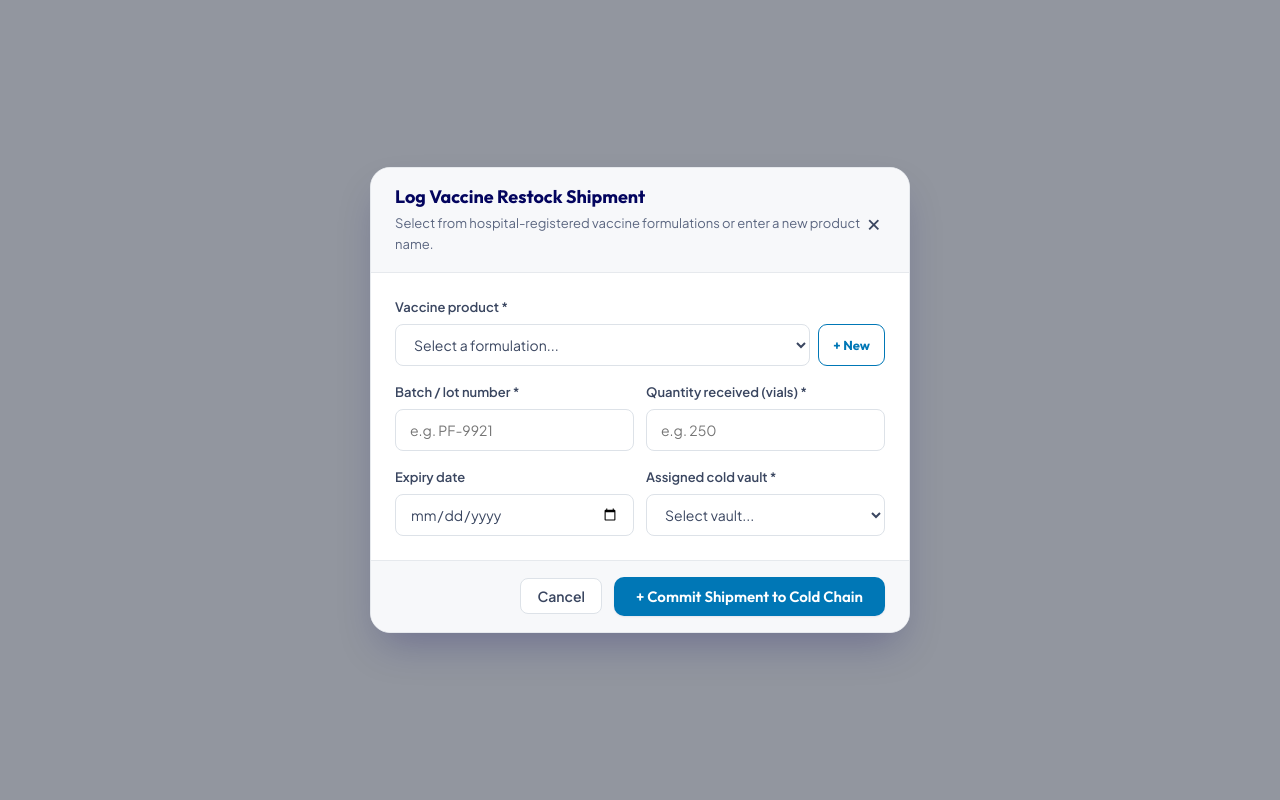
Scenario: RestockVaccineModal › shows an error when storage unit is empty on submit
Select "Pfizer" in the dropdown named "vaccineName" below "Vaccine product *". click: [603, 345]
box: [395,324,810,366]
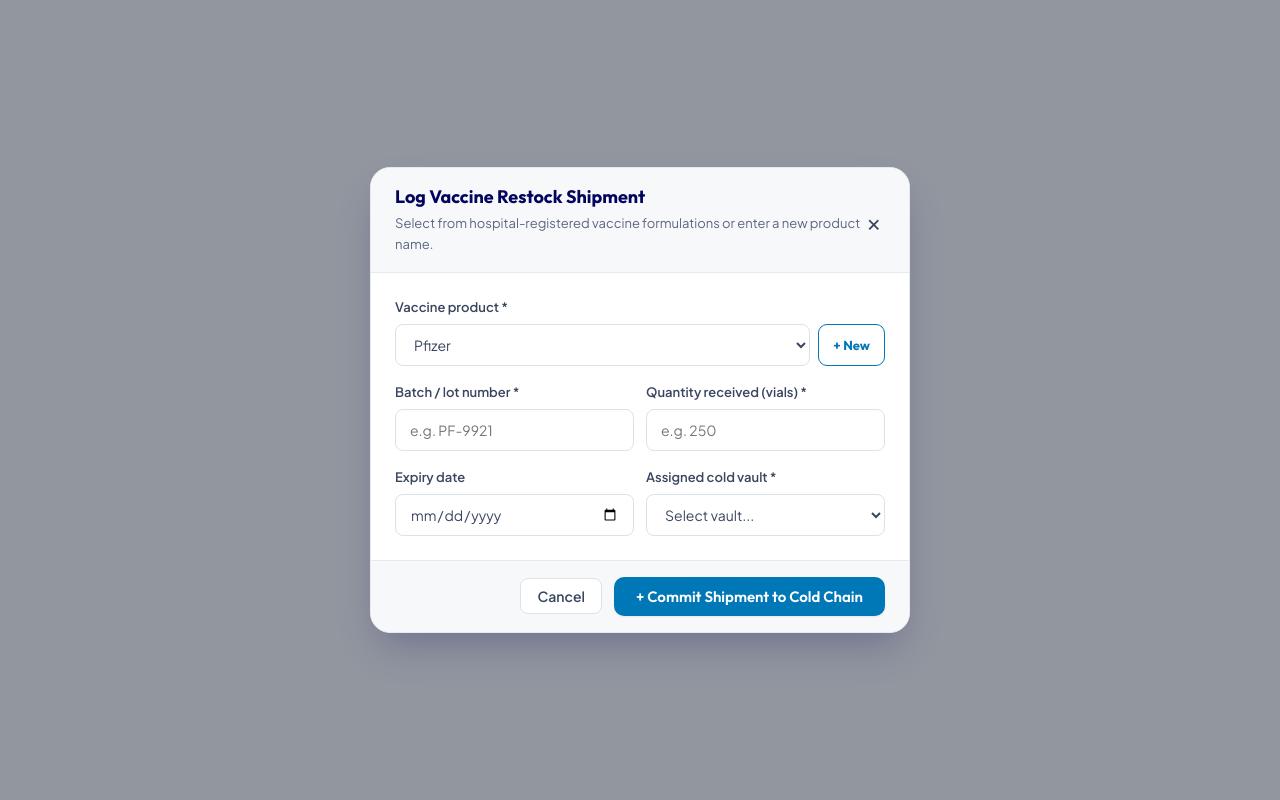
Type "LOT-001" into the field named "lotNumber". click: [514, 430]
box: [395,409,634,451]
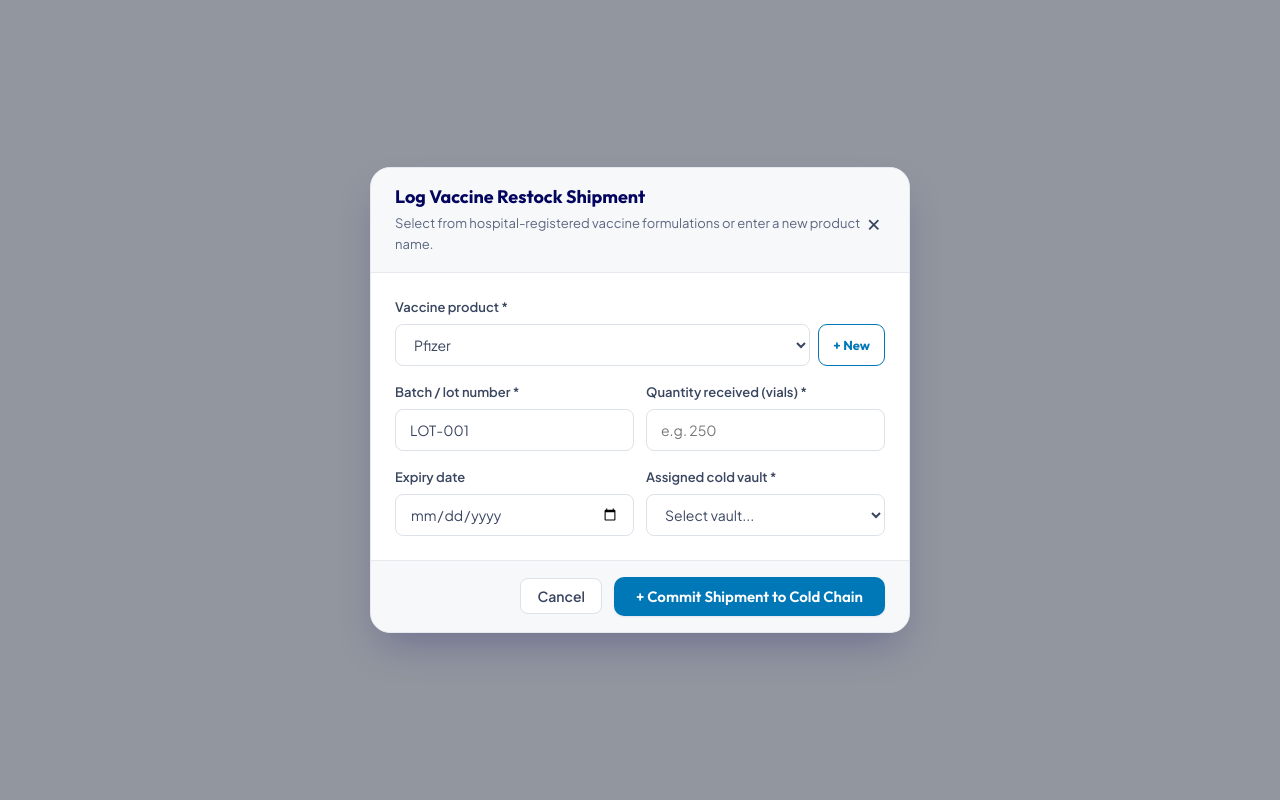
Type "100" into the number field named "quantity". click: [766, 430]
box: [646,409,885,451]
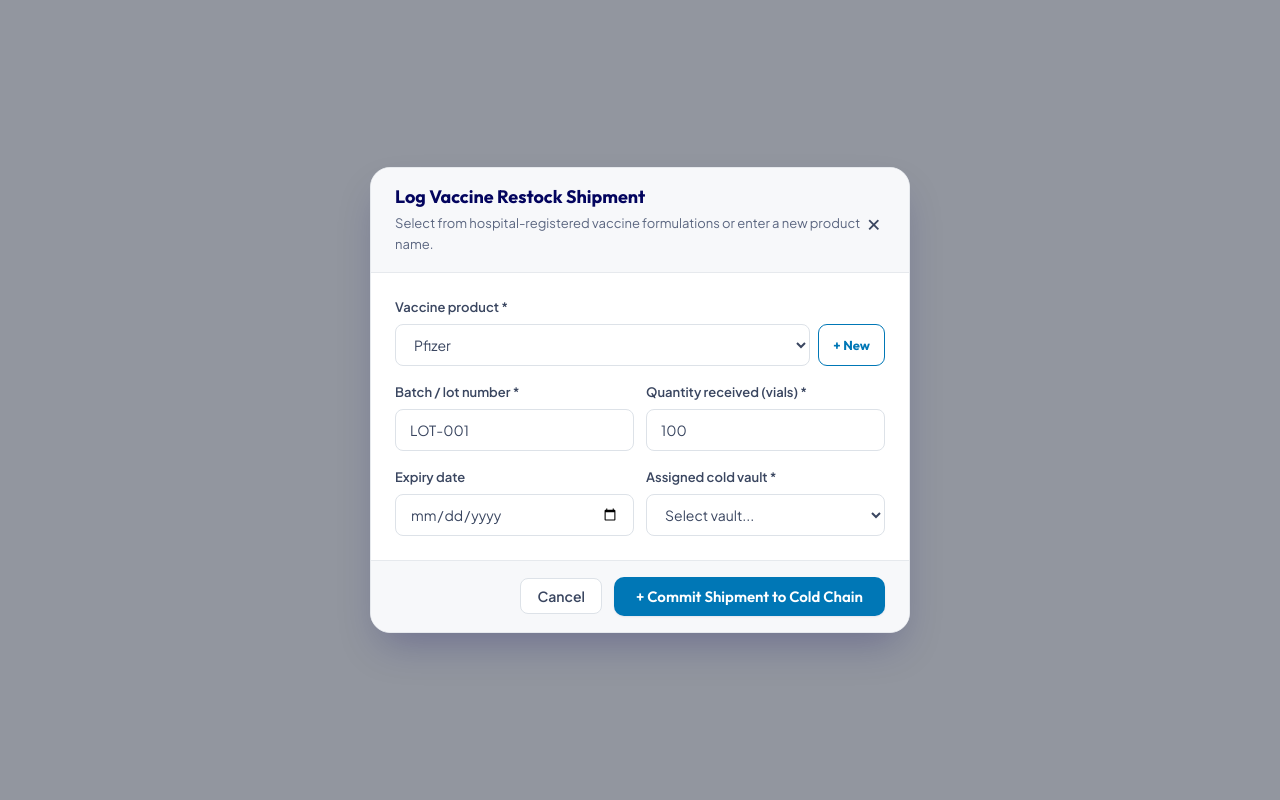
Submit the form, box [371,273,909,632]
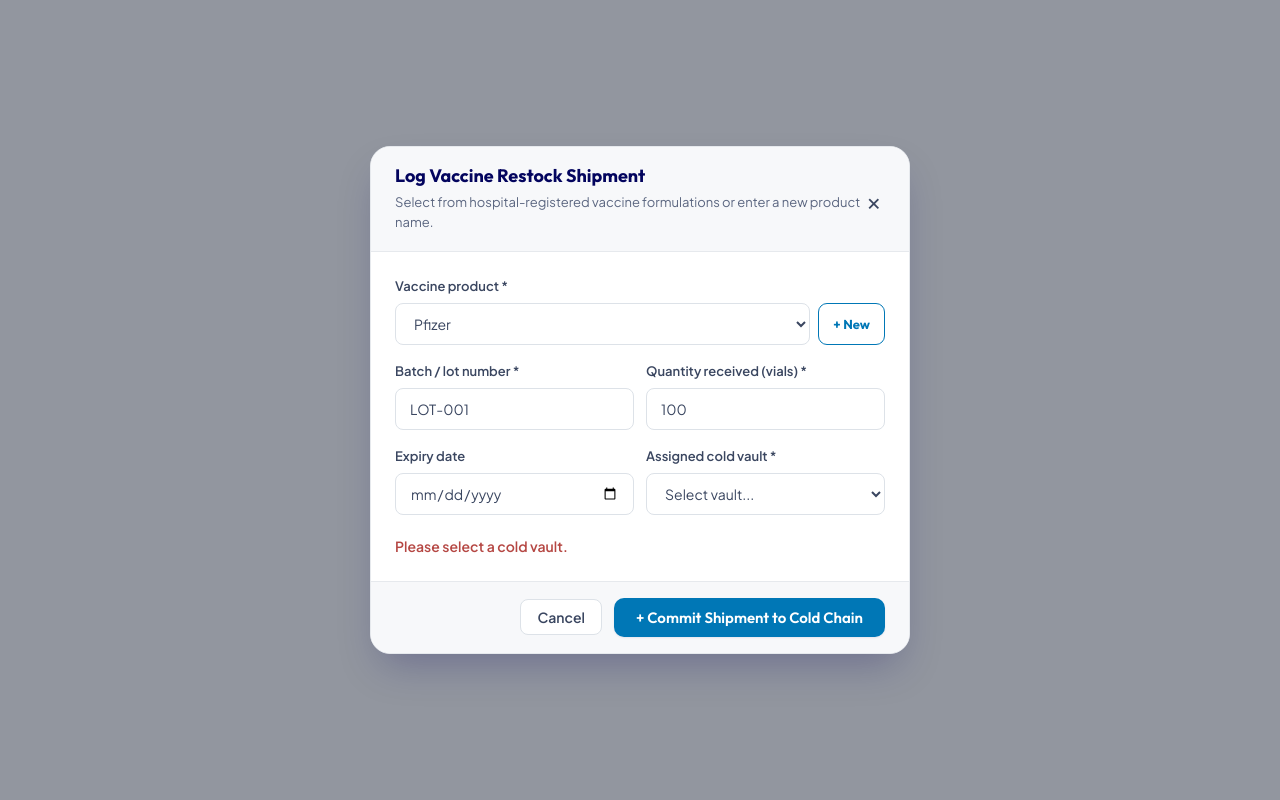
Expected: the message shows "cold vault", [395,536,568,554]
